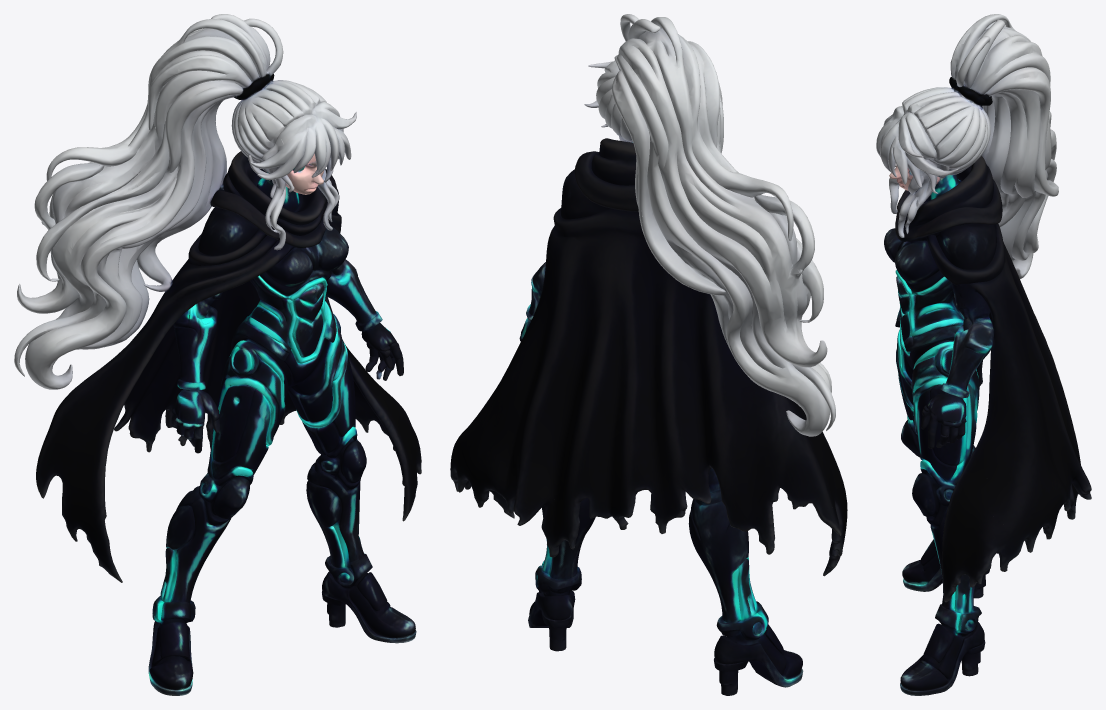
Rendered from pandora_parts.glb.
3 views of the same model, side by side, from view 1: azimuth 30°, elevation 25°; view 2: azimuth 150°, elevation 25°; view 3: azimuth 270°, elevation 25° (orthographic). The views are drawn at different scales.
Parts seen in each view (by area): view 1: root.2, root.1, root.0, root.3, root.5, root.4, root.6, root.7; view 2: root.0, root.2, root.1, root.4, root.5, root.3; view 3: root.0, root.1, root.2, root.3, root.5, root.7, root.4.
Part boxes in pixels (box(x1,y1,x2,y2)): root.2: box(14, 14, 283, 389); root.1: box(160, 159, 382, 603); root.0: box(36, 151, 421, 582); root.3: box(231, 80, 356, 250); root.5: box(322, 553, 416, 643); root.4: box(148, 596, 195, 695); root.6: box(171, 389, 219, 453); root.7: box(358, 323, 403, 380); root.0: box(450, 138, 847, 576); root.2: box(612, 14, 835, 436); root.1: box(526, 142, 757, 622); root.4: box(714, 601, 803, 695); root.5: box(528, 560, 581, 651); root.3: box(584, 54, 632, 142); root.0: box(895, 155, 1091, 602); root.1: box(884, 165, 993, 613); root.2: box(949, 14, 1058, 279); root.3: box(876, 87, 990, 237); root.5: box(900, 604, 985, 695); root.7: box(921, 392, 966, 448); root.4: box(902, 539, 989, 598).
Bounding box in the file's own units: 1.22 × 1.9 × 0.6157.
Materials: 8 (8 with a texture image).
